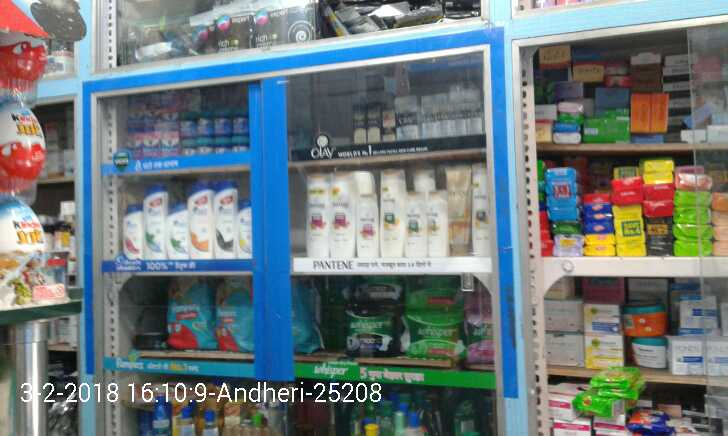vicks: (120, 93, 249, 153)
